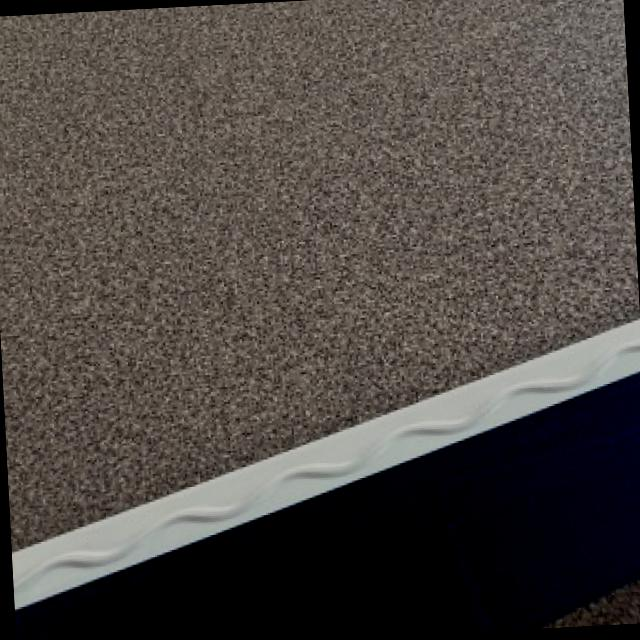healthy: (0, 0, 640, 545), (14, 320, 640, 640)
